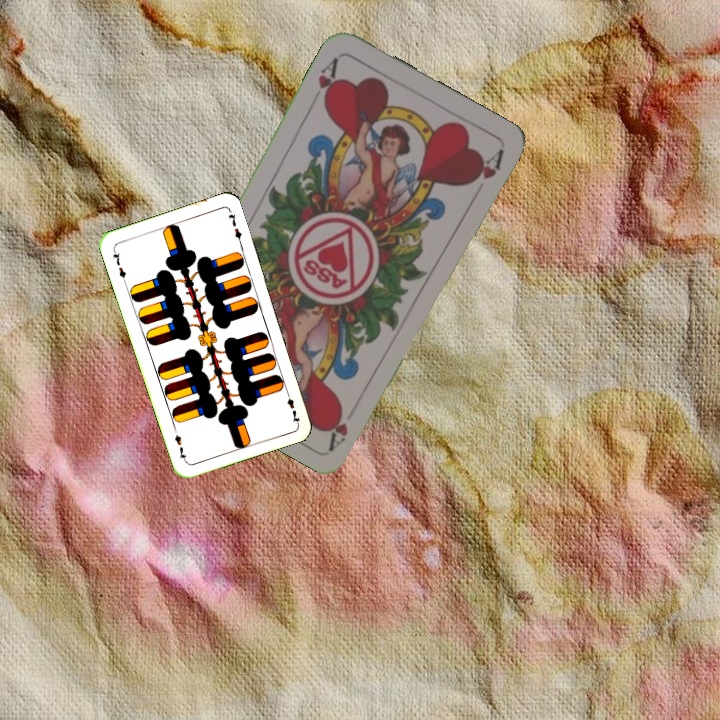E7: (282, 386, 303, 426), (109, 245, 129, 285)
HA: (313, 53, 342, 110), (325, 403, 351, 451)
